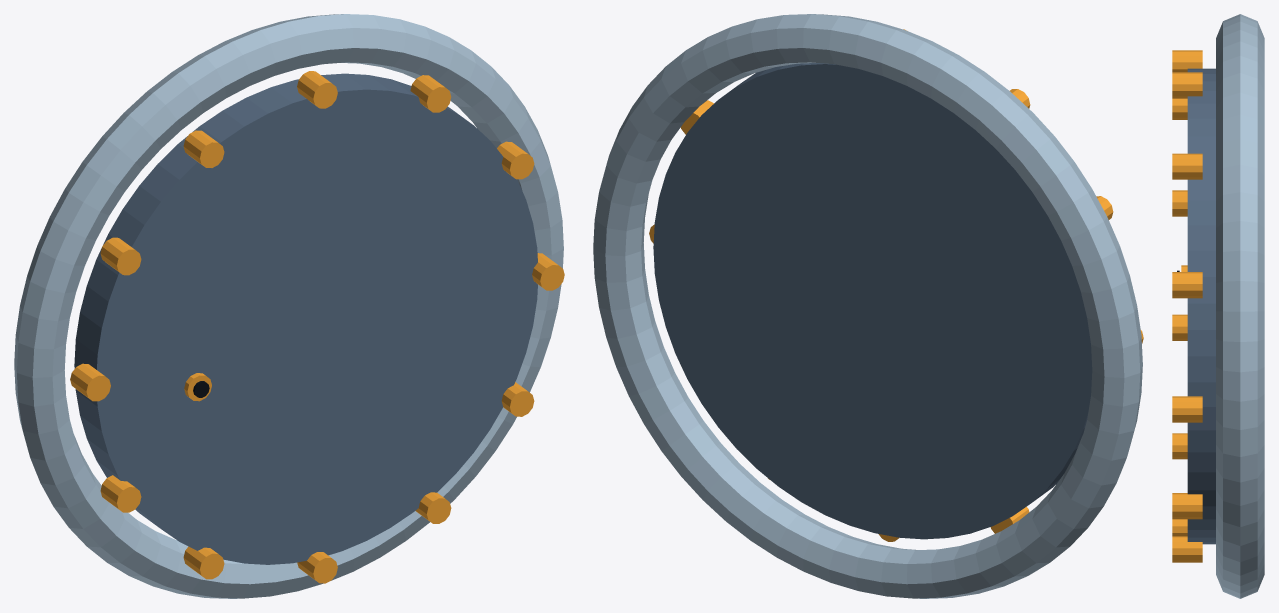
Rendered from 09_L88_AtmosphereAirlockIsolationHatch.fbx.
The picture shows the model from 3 angles, left to right: view 1: azimuth 30°, elevation 25°; view 2: azimuth 150°, elevation 25°; view 3: azimuth 270°, elevation 25°; orthographic projection. The views are drawn at different scales.
Visible parts, largest first — view 1: L87_AtmosphereAirlockIsolationHatch_Part_0001, L87_AtmosphereAirlockIsolationHatch_Part_0000, L87_AtmosphereAirlockIsolationHatch_Part_0002; view 2: L87_AtmosphereAirlockIsolationHatch_Part_0001, L87_AtmosphereAirlockIsolationHatch_Part_0000, L87_AtmosphereAirlockIsolationHatch_Part_0002; view 3: L87_AtmosphereAirlockIsolationHatch_Part_0000, L87_AtmosphereAirlockIsolationHatch_Part_0001, L87_AtmosphereAirlockIsolationHatch_Part_0002.
Part boxes in pixels (<box>): L87_AtmosphereAirlockIsolationHatch_Part_0001: <box>74,73,537,564</box>; L87_AtmosphereAirlockIsolationHatch_Part_0000: <box>14,14,563,598</box>; L87_AtmosphereAirlockIsolationHatch_Part_0002: <box>70,71,564,583</box>; L87_AtmosphereAirlockIsolationHatch_Part_0001: <box>653,63,1092,539</box>; L87_AtmosphereAirlockIsolationHatch_Part_0000: <box>593,14,1142,598</box>; L87_AtmosphereAirlockIsolationHatch_Part_0002: <box>649,29,1143,541</box>; L87_AtmosphereAirlockIsolationHatch_Part_0000: <box>1216,14,1264,598</box>; L87_AtmosphereAirlockIsolationHatch_Part_0001: <box>1187,68,1215,544</box>; L87_AtmosphereAirlockIsolationHatch_Part_0002: <box>1172,50,1202,562</box>.
Size of the model in its own units: 288 by 288 by 45.5.
